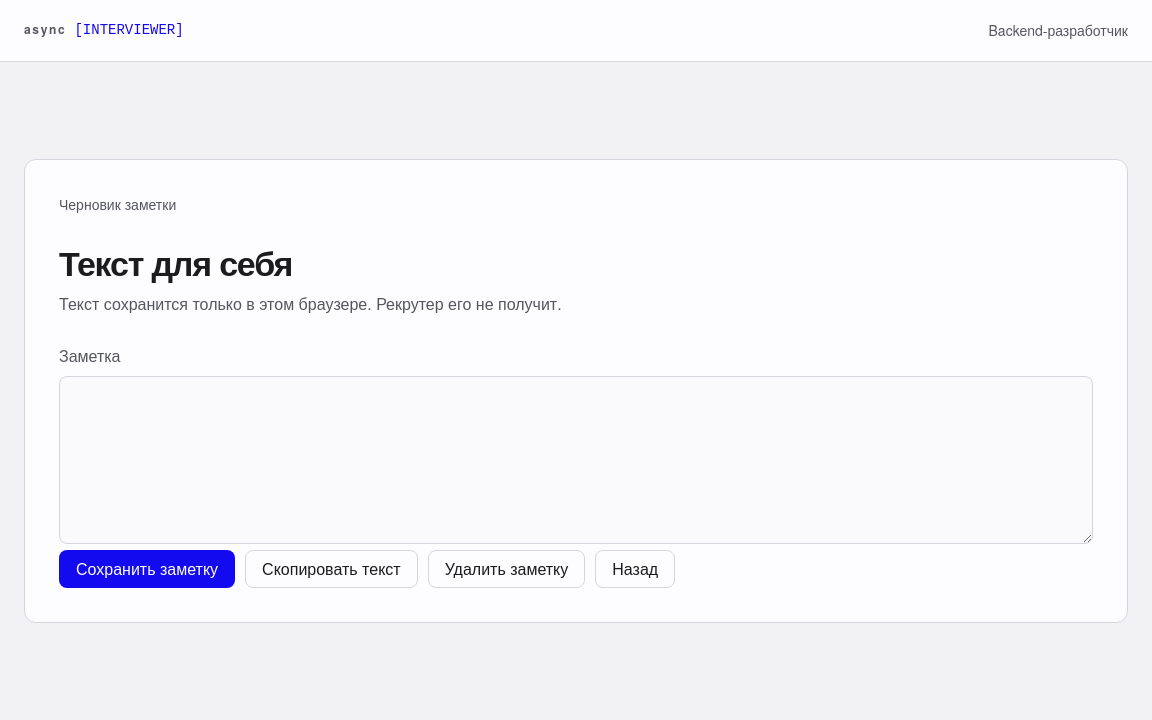
RequestPage › keeps the typed text and shows an error when localStorage cannot save
The width and height of the screenshot is (1152, 720).
Type "Не потерять текст" into the text box at {"x": 576, "y": 460}, box [59, 376, 1093, 544]
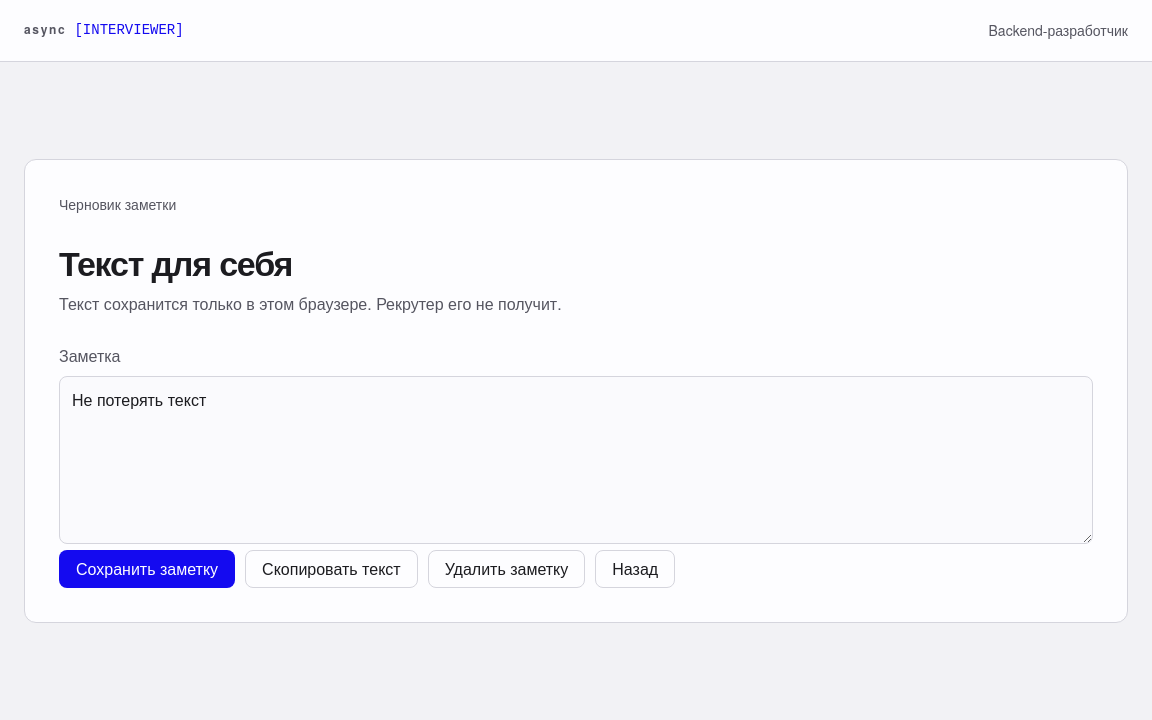
Click the button "Сохранить заметку" at {"x": 147, "y": 568}, box [59, 550, 235, 588]
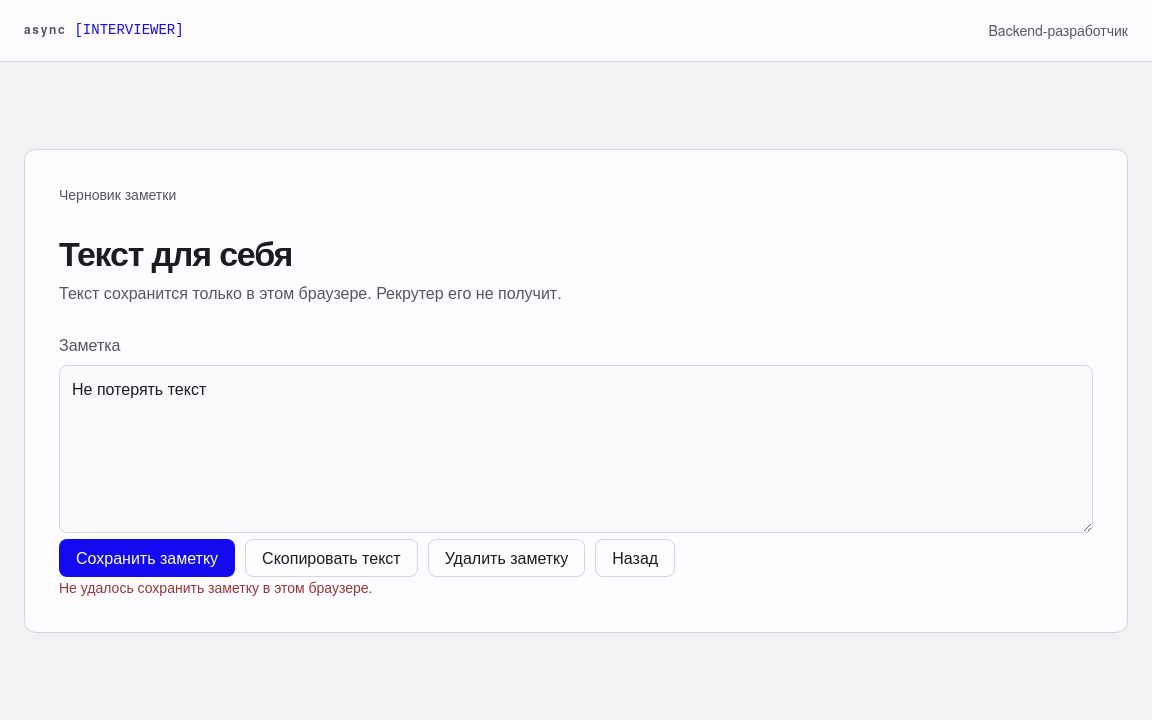
Expected: the text "Не удалось сохранить заметку в этом браузере." is shown, [59, 577, 372, 597]
